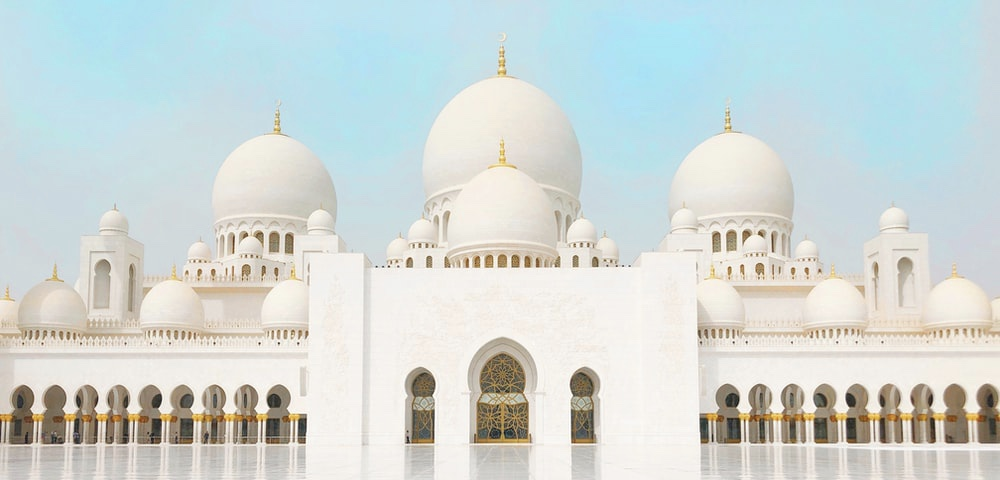Mosque: (4, 56, 994, 465)
